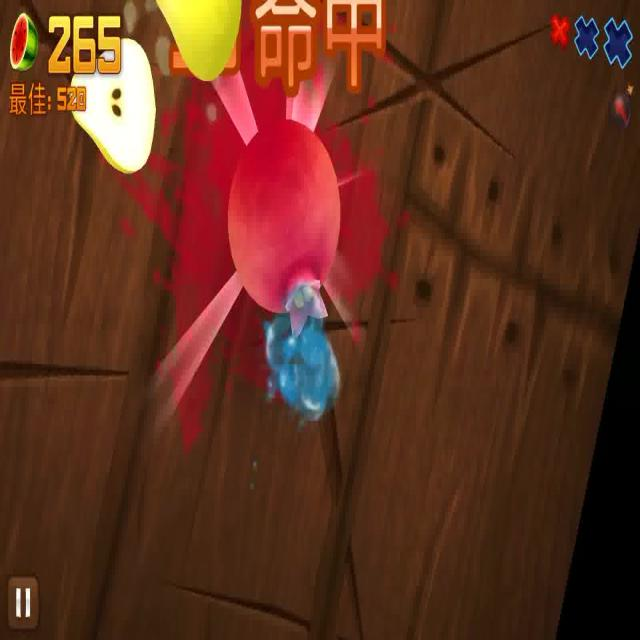fruit: (227, 115, 341, 312), (63, 46, 156, 169), (152, 0, 244, 78)
